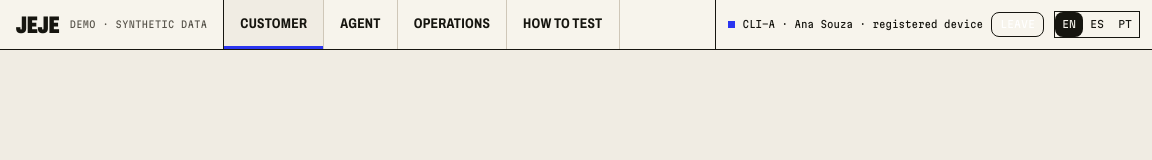
quem está na sessão aparece no topo, e o Leave a encerra
The image size is (1152, 160).
Check: the text "CLI-A · Ana Souza · registered device" is shown, box [742,17,983,32]
Click the button "Leave": (1018, 25) [991,12,1044,37]
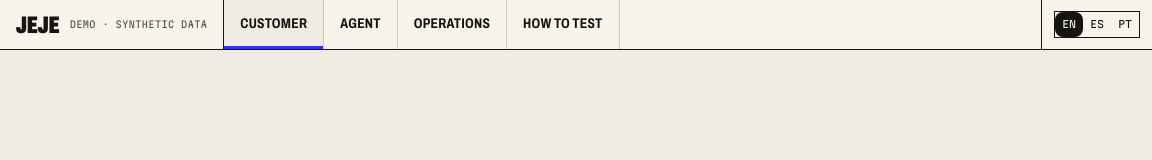
Check: the text "Ana Souza" is gone
